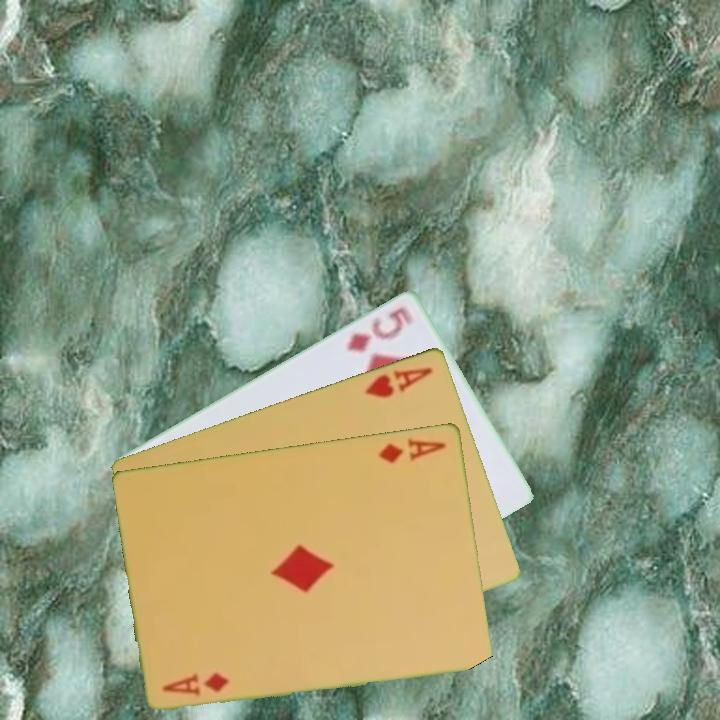5d: (343, 303, 416, 355)
Ad: (375, 434, 449, 466), (159, 668, 232, 698)
Ah: (361, 363, 436, 401)
